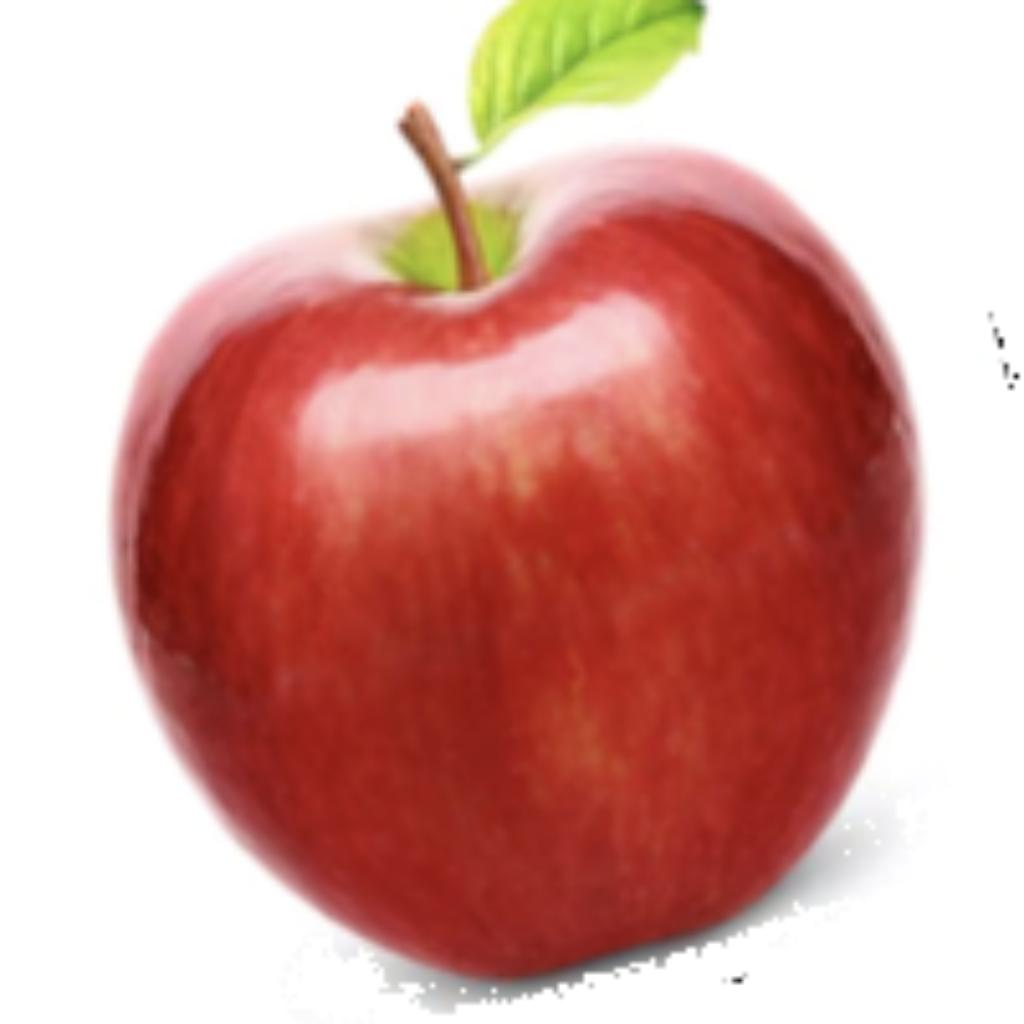apple: (97, 92, 932, 1014)
